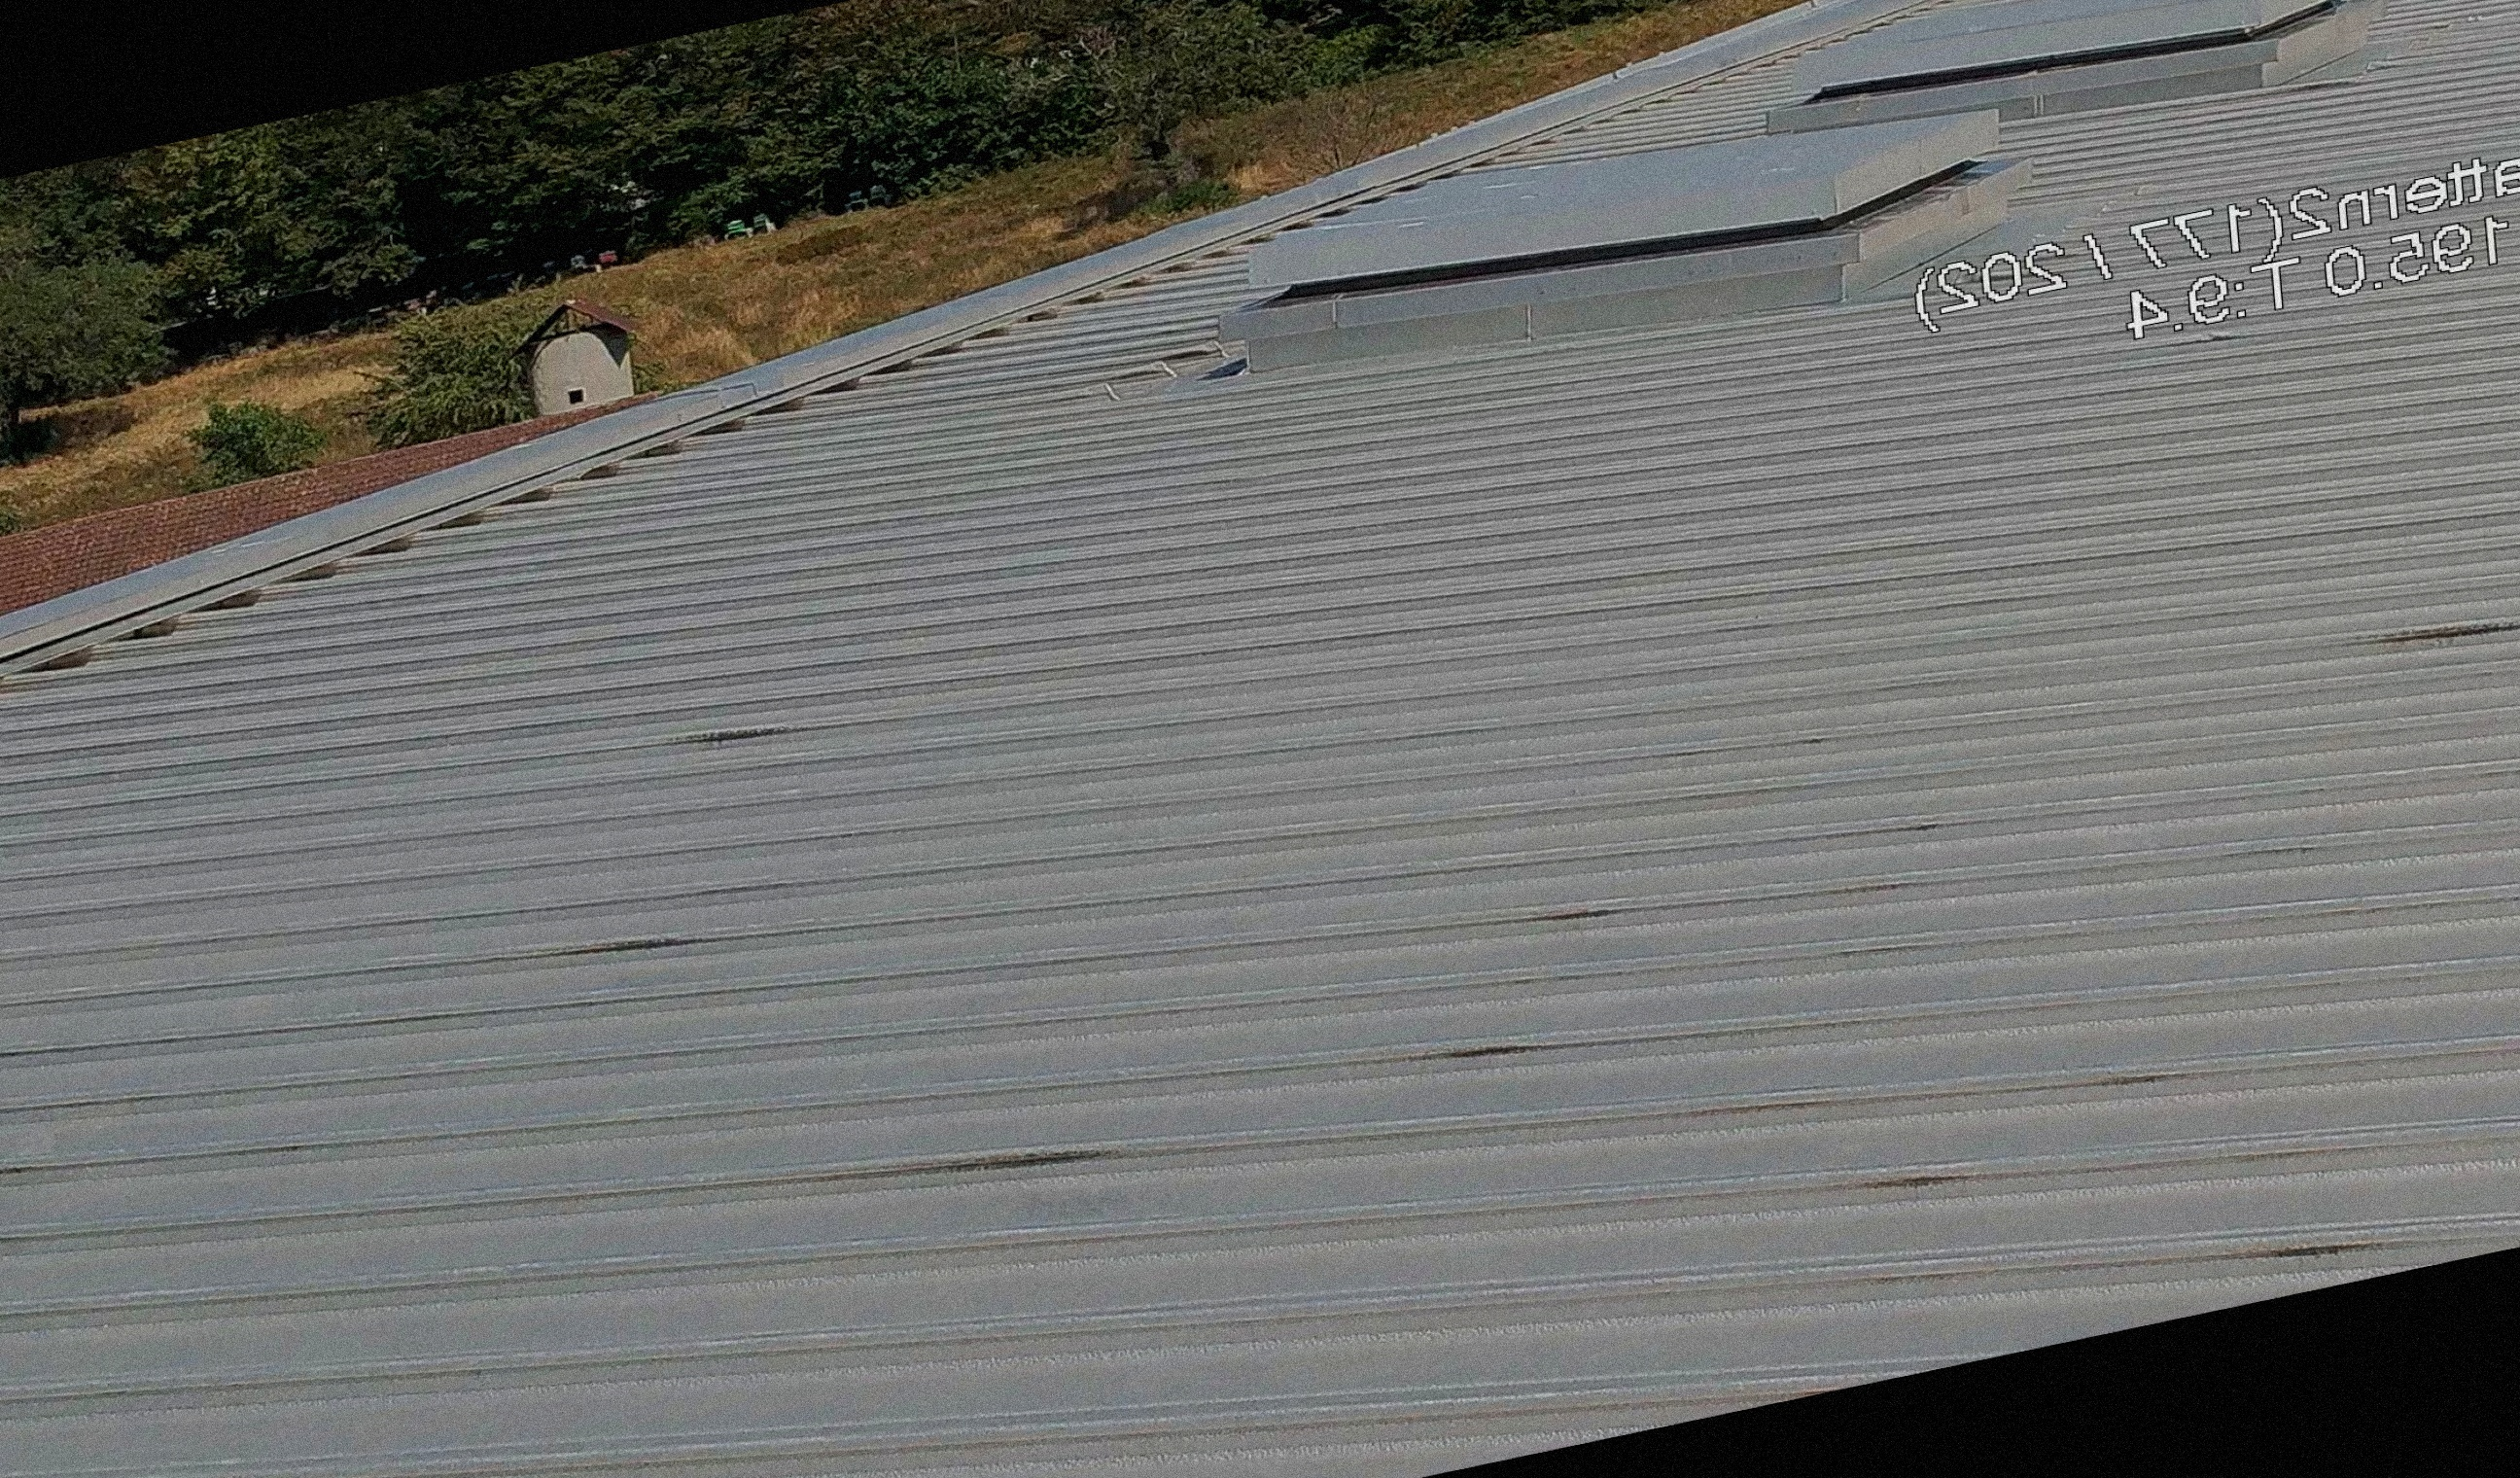Other: (491, 264, 647, 445)
